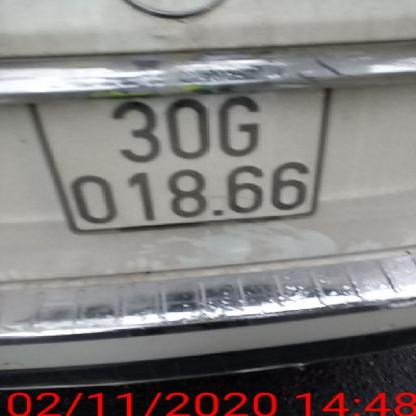biensoxe: (27, 90, 340, 236)
